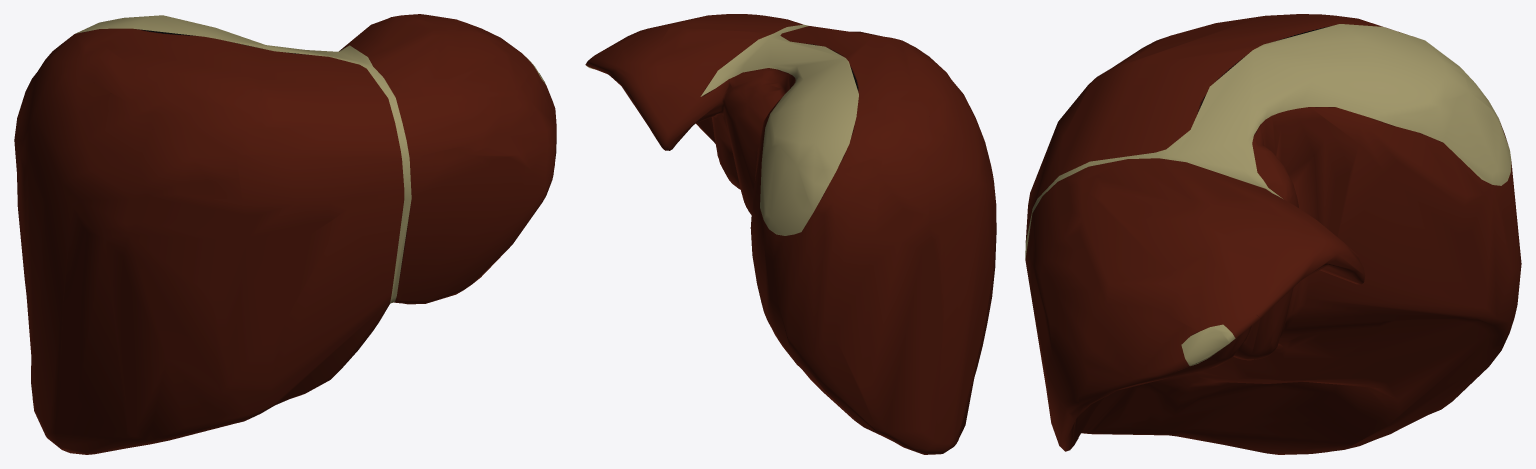
Rendered from Livera.glb.
3 views of the same model, side by side, from view 1: azimuth 30°, elevation 25°; view 2: azimuth 150°, elevation 25°; view 3: azimuth 270°, elevation 25° (orthographic). The views are drawn at different scales.
Parts seen in each view (by area): view 1: Liver.007; view 2: Liver.007; view 3: Liver.007.
Part boxes in pixels (x1,y1,x2,y2): Liver.007: [14, 14, 556, 454]; Liver.007: [585, 14, 996, 454]; Liver.007: [1025, 14, 1521, 454].
Bounding box in the file's own units: 0.4042 × 0.3264 × 0.3011.
2 materials, 1 textured.
